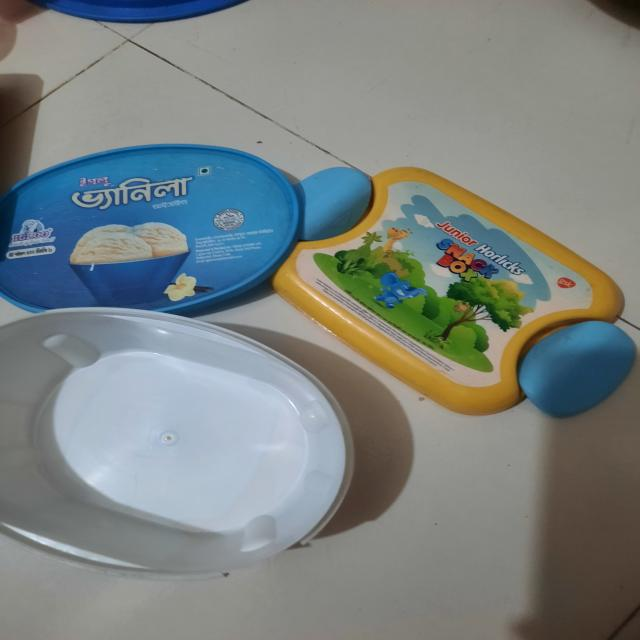Plastics: (8, 137, 640, 573)
